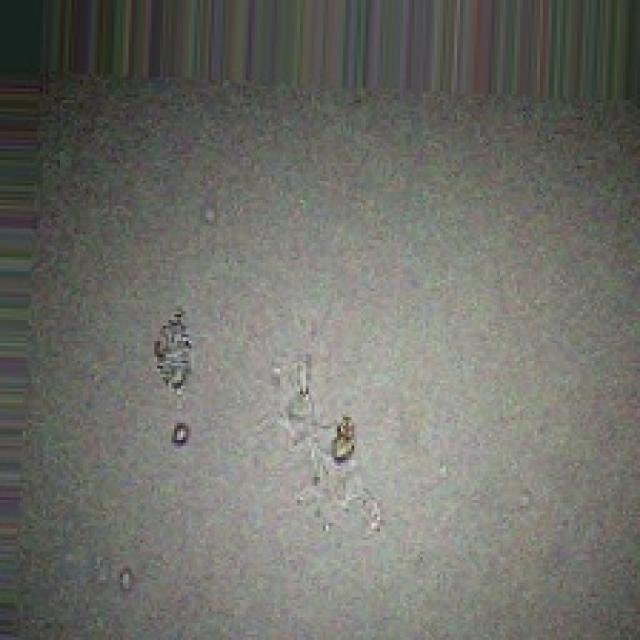Amoeba: (138, 280, 421, 568)
